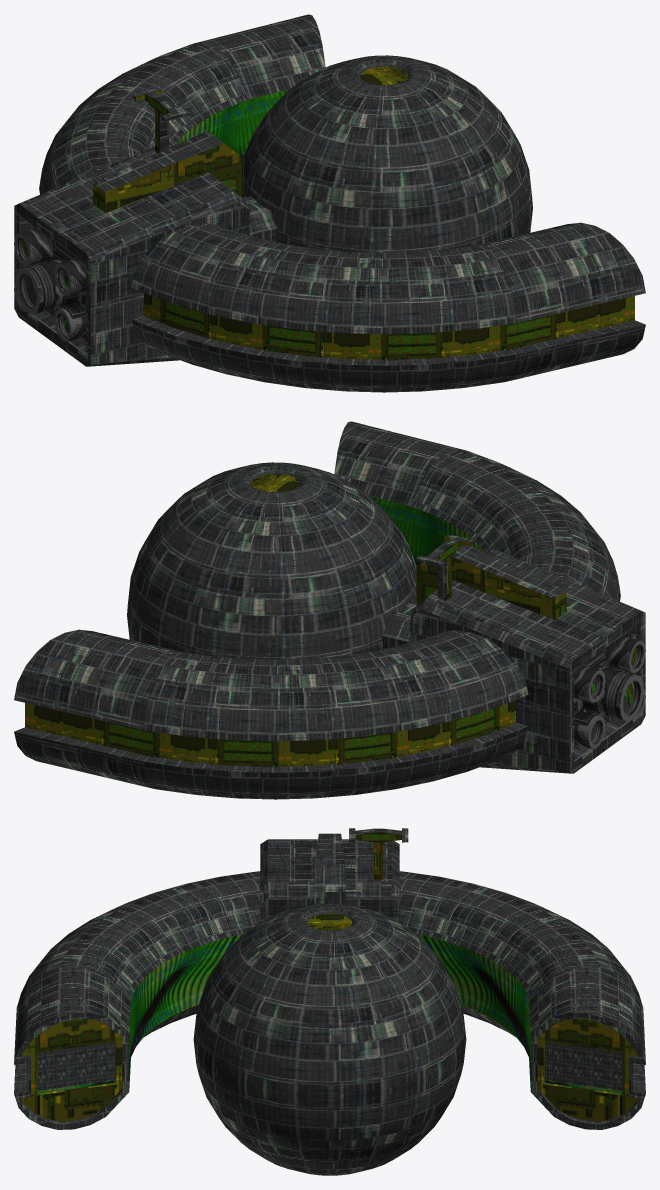
The model's file is station_sphere.fbx.
3 views of the same model, one above another, from view 1: azimuth 30°, elevation 25°; view 2: azimuth 150°, elevation 25°; view 3: azimuth 270°, elevation 25° (orthographic). The views are drawn at different scales.
Parts seen in each view (by area): view 1: Gate+engine; view 2: Gate+engine; view 3: Gate+engine.
Part boxes in pixels (x1=…): Gate+engine: x1=14, y1=14, x2=645, y2=392; Gate+engine: x1=14, y1=421, x2=645, y2=799; Gate+engine: x1=14, y1=828, x2=645, y2=1175.
Size of the model in its own units: 4041 by 4979 by 2105.
